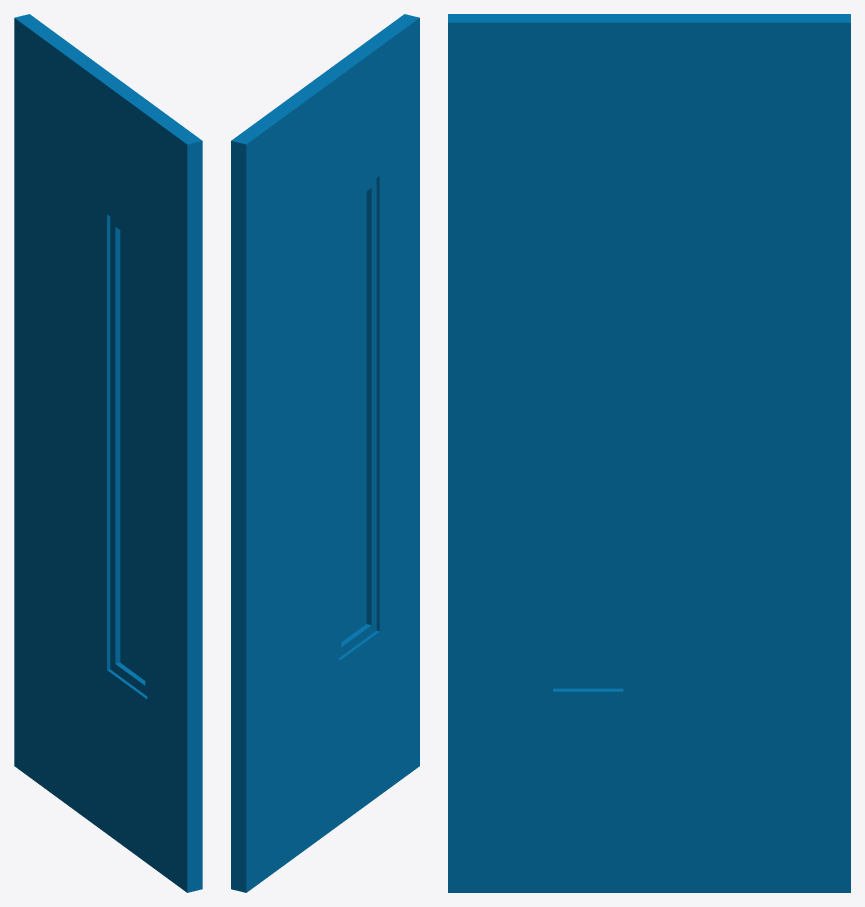
The model's file is MainDoor1bTransformed1b.fbx.
The picture shows the model from 3 angles, left to right: view 1: azimuth 30°, elevation 25°; view 2: azimuth 150°, elevation 25°; view 3: azimuth 270°, elevation 25°; orthographic projection. The views are drawn at different scales.
Parts seen in each view (by area): view 1: HB_Door_Concept_Int_Dbl_Solid_VP_- DT-04:1810x2110mm RB DT 0; view 2: HB_Door_Concept_Int_Dbl_Solid_VP_- DT-04:1810x2110mm RB DT 0; view 3: HB_Door_Concept_Int_Dbl_Solid_VP_- DT-04:1810x2110mm RB DT 0.
Boxes of the visible parts, box(x1,y1,x2,y2) form: HB_Door_Concept_Int_Dbl_Solid_VP_- DT-04:1810x2110mm RB DT 0: box(14, 14, 202, 892); HB_Door_Concept_Int_Dbl_Solid_VP_- DT-04:1810x2110mm RB DT 0: box(231, 14, 419, 892); HB_Door_Concept_Int_Dbl_Solid_VP_- DT-04:1810x2110mm RB DT 0: box(448, 14, 850, 892).
Size of the model in its own units: 0.0446 by 2.05 by 0.8615.
